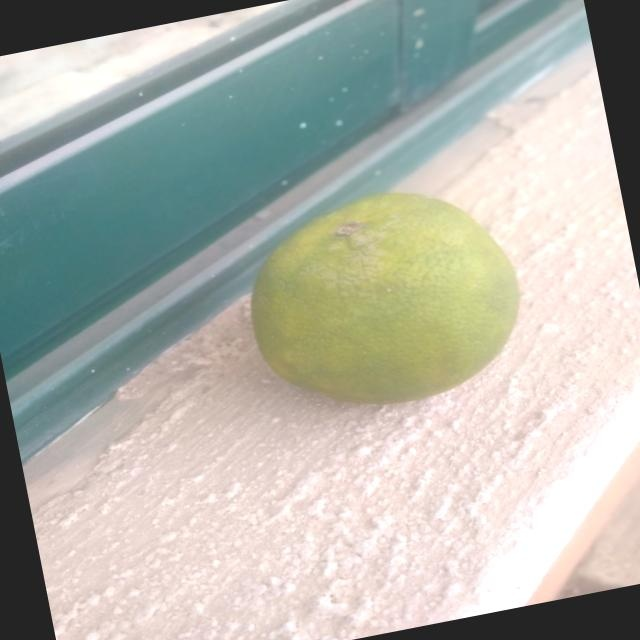agrume: (202, 158, 542, 445)
